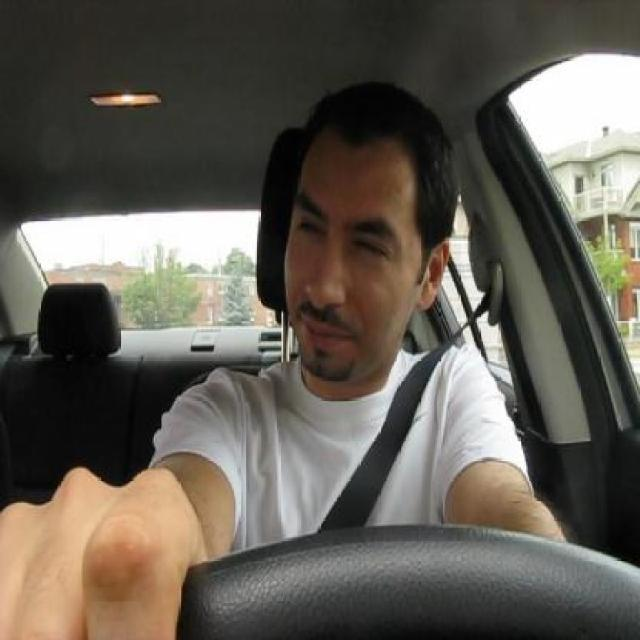drowsy: (353, 231, 389, 266), (299, 214, 327, 246)
